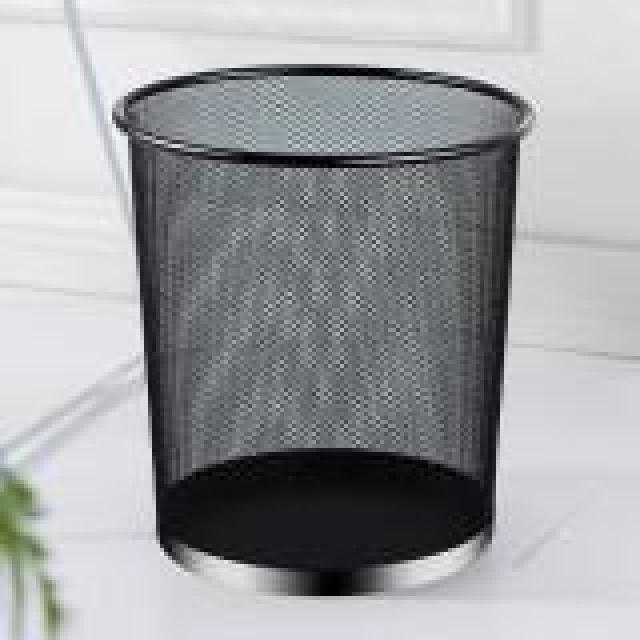dustbin: (108, 57, 538, 599)
